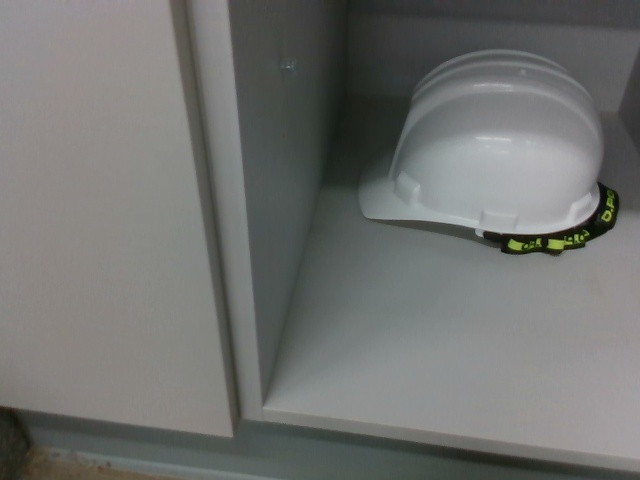helmet: (358, 45, 628, 256)
